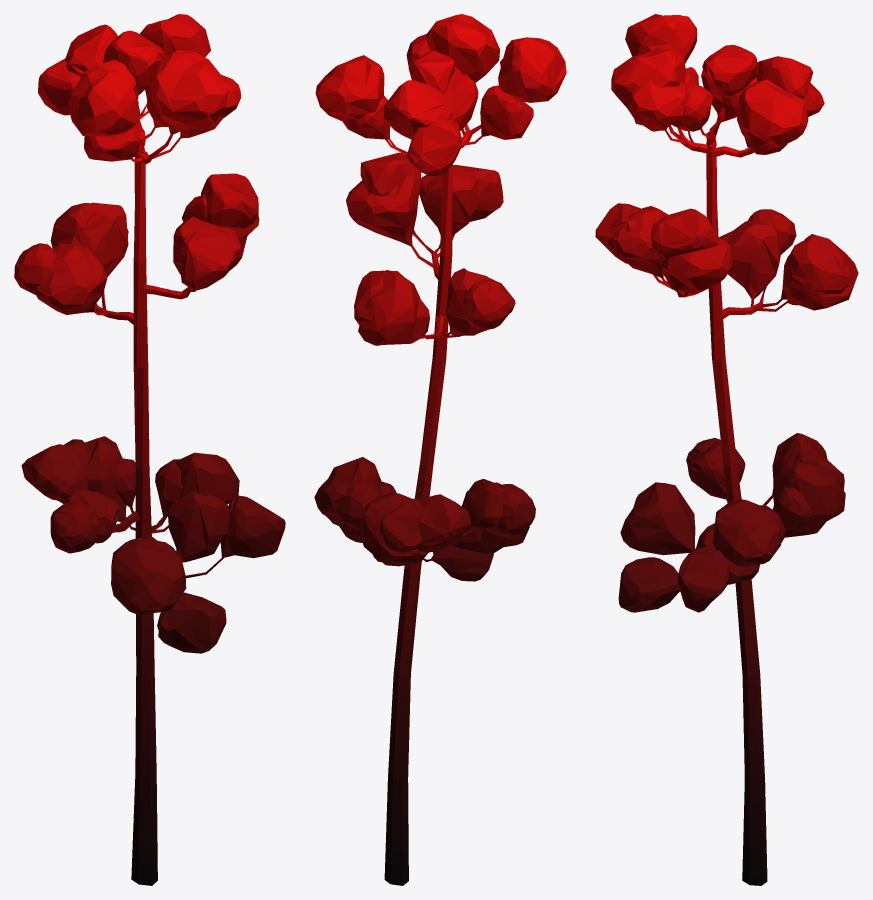
The model's file is TreePine02.fbx.
3 renders of one model, left to right at view 1: azimuth 30°, elevation 25°; view 2: azimuth 150°, elevation 25°; view 3: azimuth 270°, elevation 25°, orthographic. The views are drawn at different scales.
Parts seen in each view (by area): view 1: TreePine02_LOD0; view 2: TreePine02_LOD0; view 3: TreePine02_LOD0.
Part boxes in pixels (x1,y1,x2,y2): TreePine02_LOD0: [14, 14, 285, 885]; TreePine02_LOD0: [314, 14, 566, 885]; TreePine02_LOD0: [595, 14, 858, 885].
Size of what is drawn, in the model's own units: 330 by 1201 by 347.
